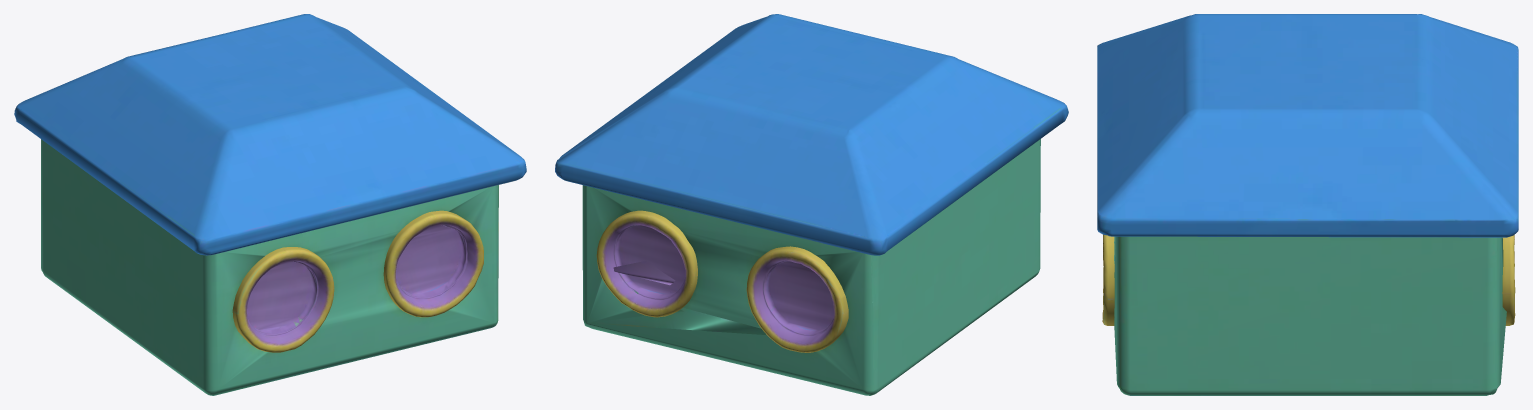
Rendered from house-bungalow.glb.
3 renders of one model, left to right at view 1: azimuth 30°, elevation 25°; view 2: azimuth 150°, elevation 25°; view 3: azimuth 270°, elevation 25°, orthographic. The views are drawn at different scales.
Parts seen in each view (by area): view 1: geometry_0; view 2: geometry_0; view 3: geometry_0.
Boxes of the visible parts, x1,y1,x2,y2 form: geometry_0: (14,14,526,395); geometry_0: (555,14,1068,395); geometry_0: (1097,14,1518,395).
Bounding box in the file's own units: 1 × 0.6749 × 1.
Materials: 1 (1 with a texture image).
